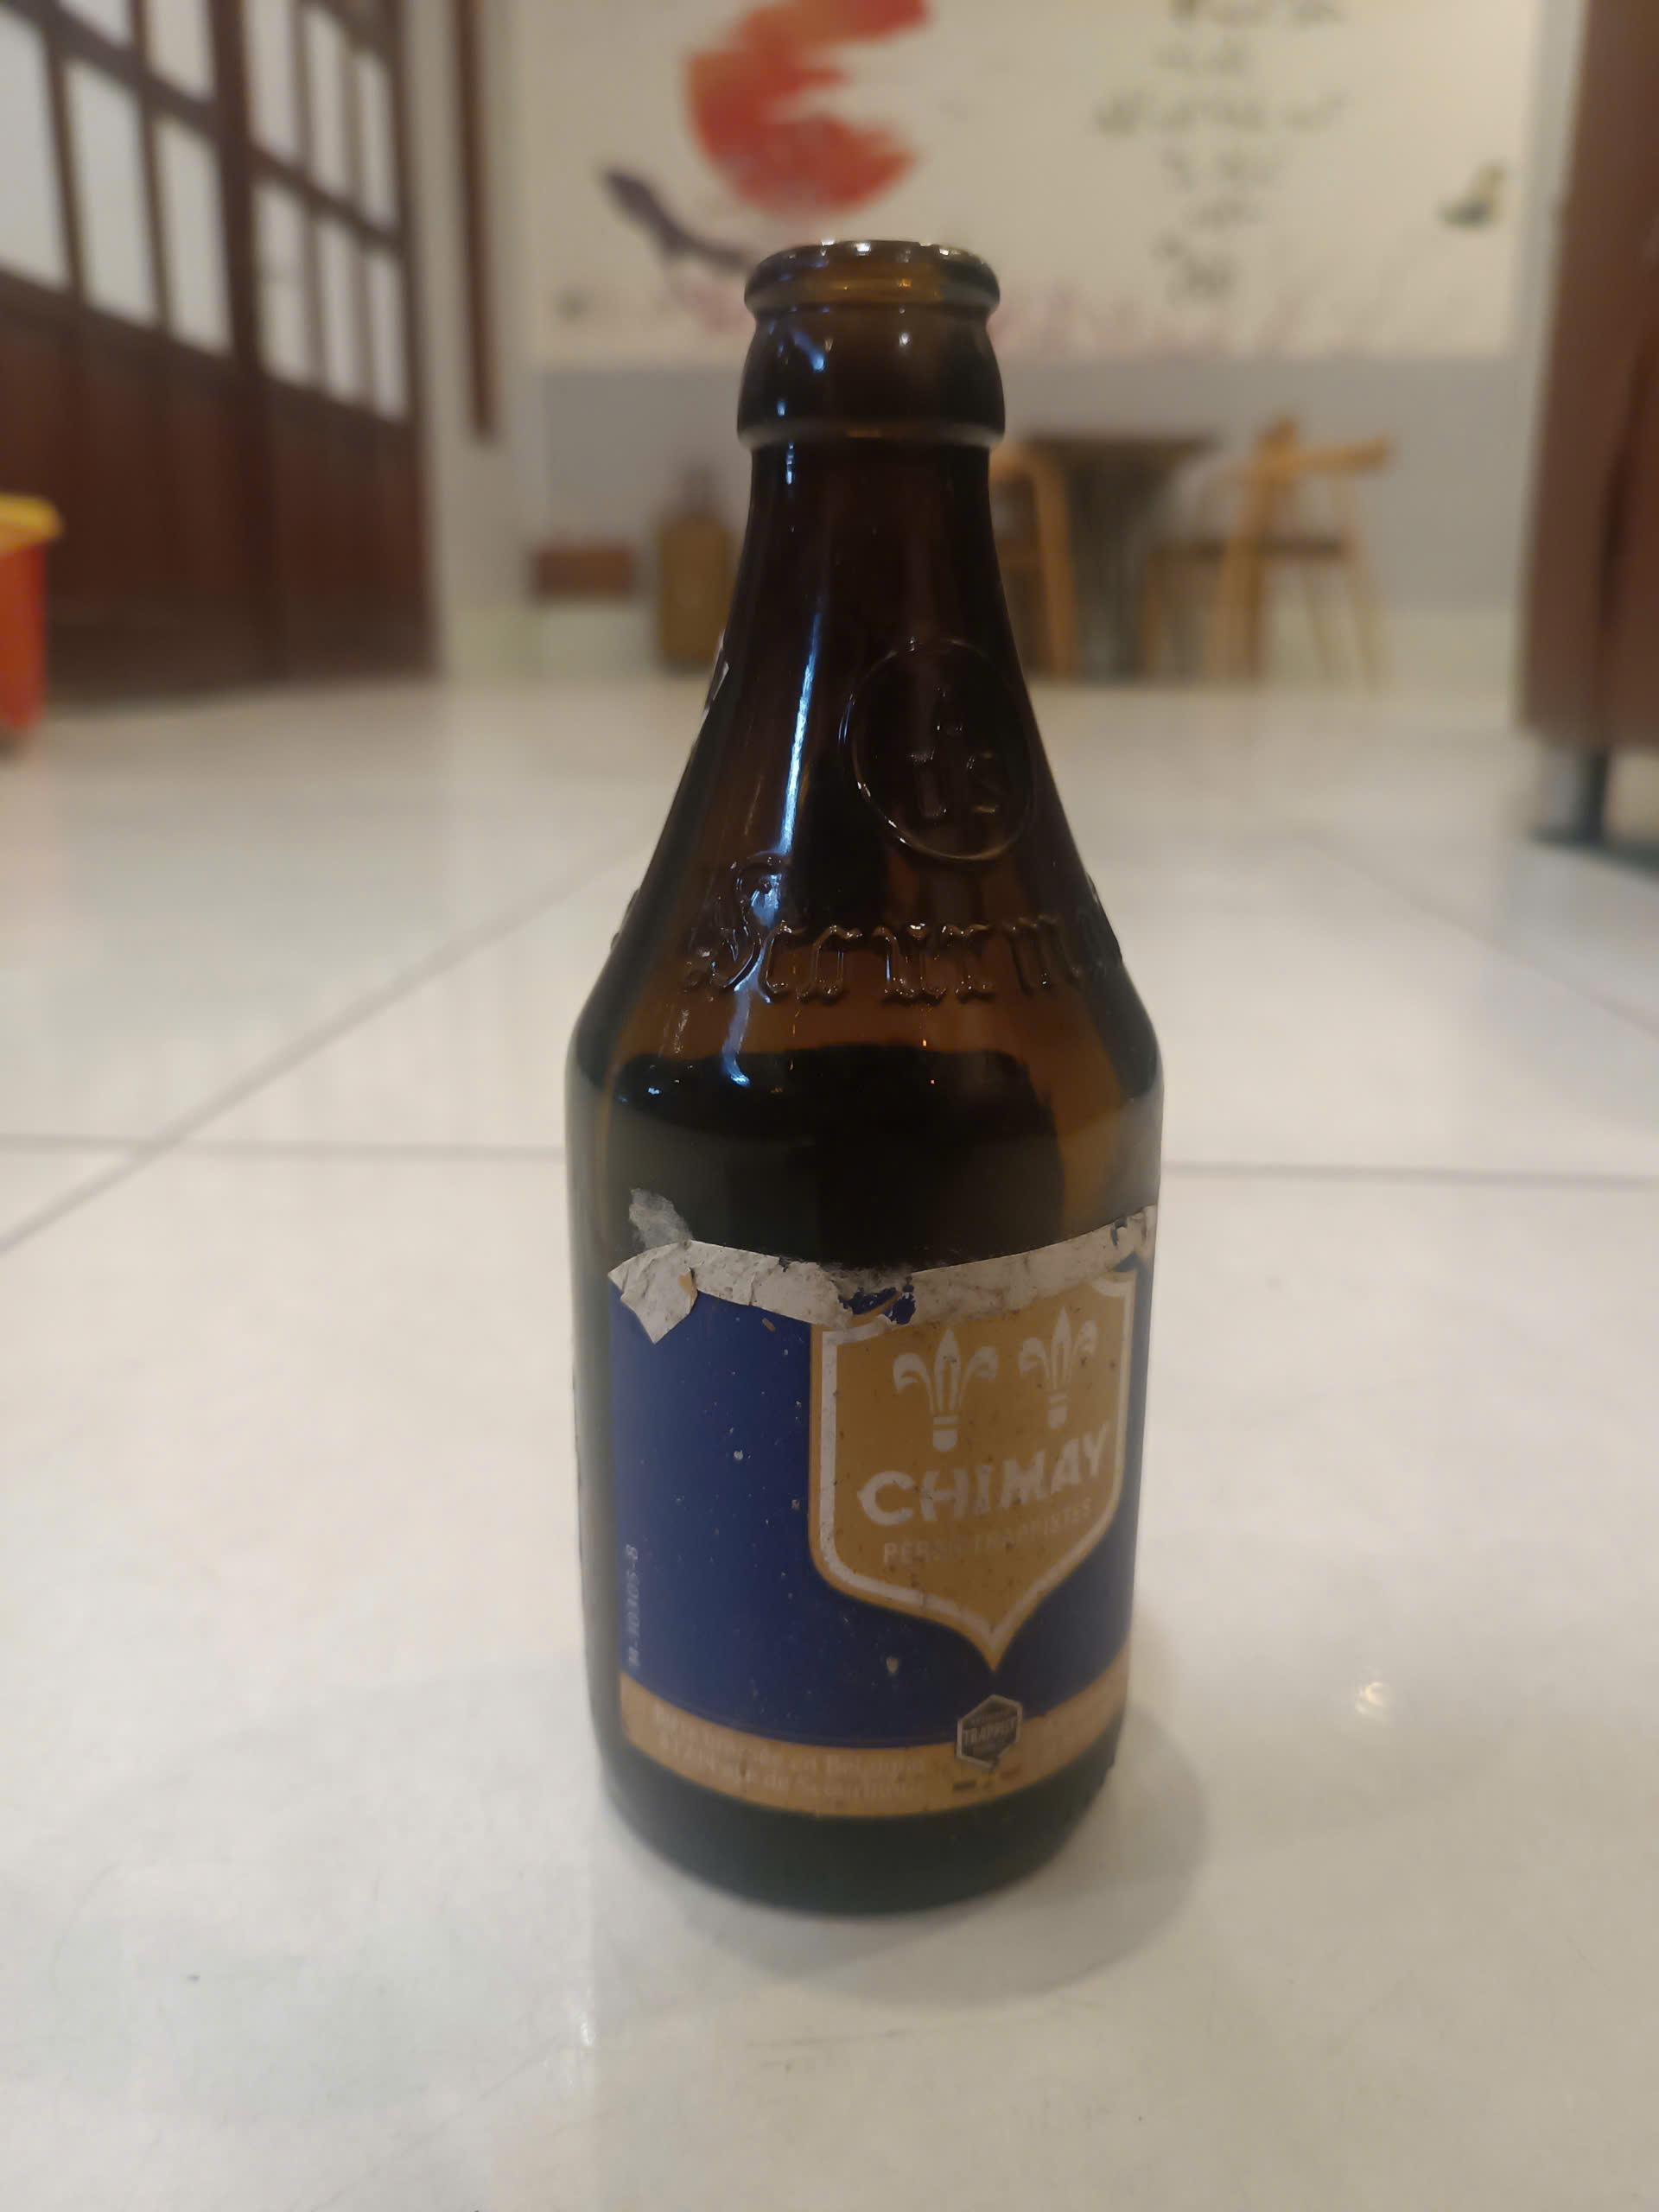Vo co: (552, 233, 1175, 1909)
